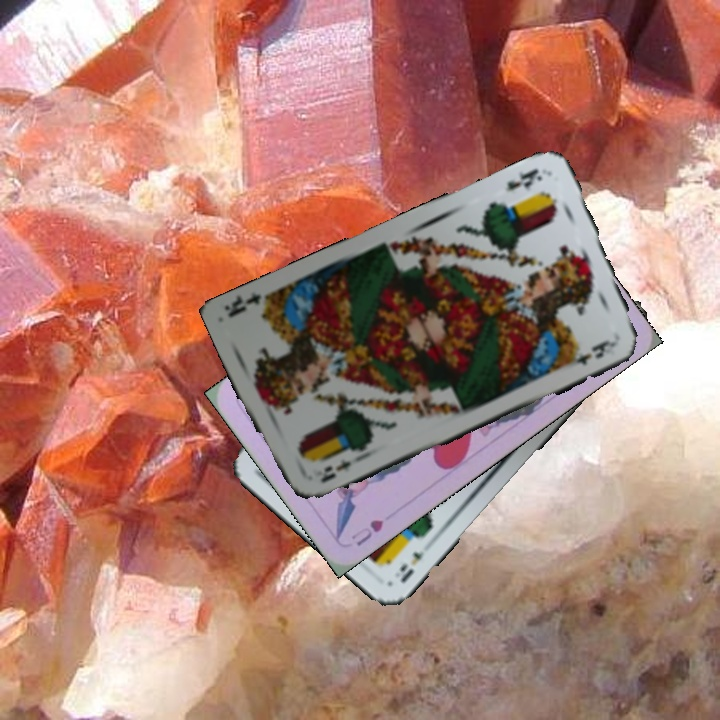EK: (501, 164, 545, 194), (396, 547, 427, 585), (316, 454, 354, 485)
HU: (347, 515, 386, 549)
